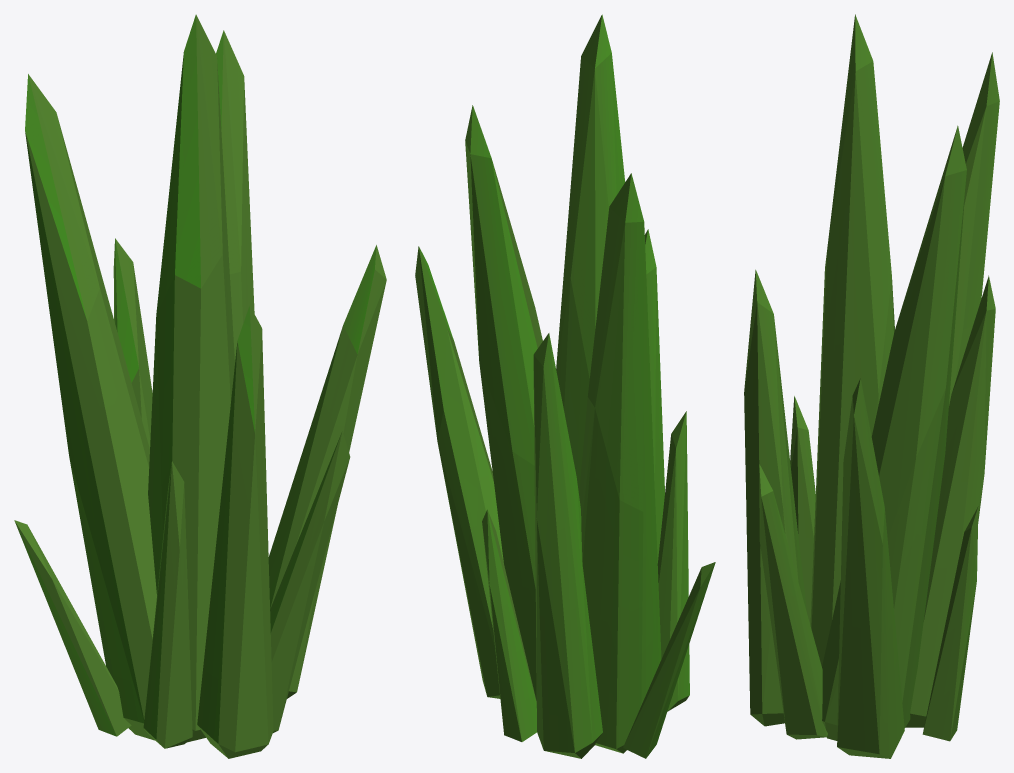
The model's file is Coral.obj.
3 views of the same model, side by side, from view 1: azimuth 30°, elevation 25°; view 2: azimuth 150°, elevation 25°; view 3: azimuth 270°, elevation 25° (orthographic).
Visible parts, largest first — view 1: Coral_CoralMesh.001; view 2: Coral_CoralMesh.001; view 3: Coral_CoralMesh.001.
Part boxes in pixels (x1,y1,x2,y2): Coral_CoralMesh.001: (14,14,386,758); Coral_CoralMesh.001: (415,14,715,758); Coral_CoralMesh.001: (744,14,999,758).
Size of the model in its own units: 0.2517 by 0.5149 by 0.166.
